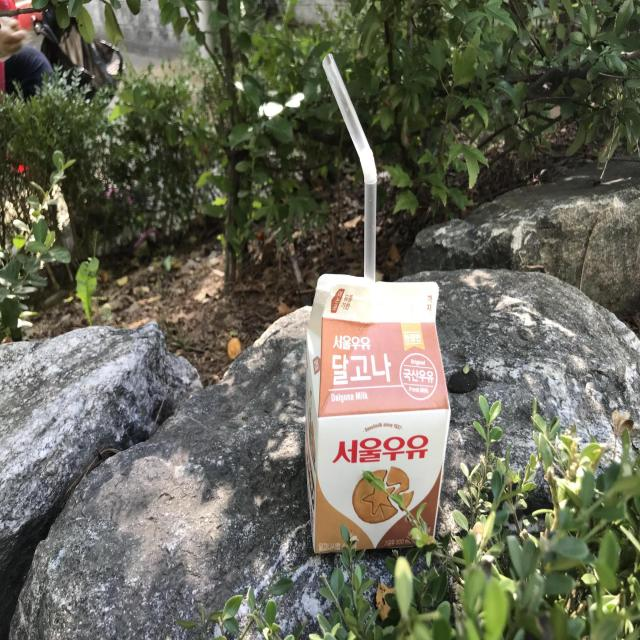paperpack: (306, 274, 451, 554)
